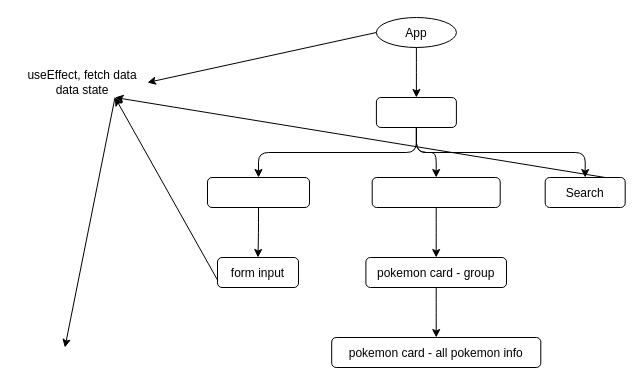
Some shapes in this 643 by 385 pixel diagram are drawn without their labels. The box of each missing label's shape, as (x1, y1, x2, y2) in pixels:
pokemon collection: (371, 176, 500, 208)
Pokemon Form: (206, 176, 310, 208)
PokemonPage: (375, 96, 456, 128)
